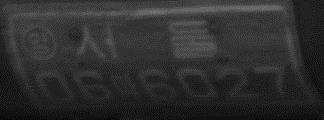0: (34, 69, 75, 109), (175, 63, 217, 102)
2: (216, 65, 262, 101)
6: (139, 65, 178, 106), (74, 68, 113, 107)
7: (252, 62, 289, 104)
서울_D: (74, 18, 220, 60)
영: (20, 22, 59, 63)
파: (107, 70, 141, 104)
